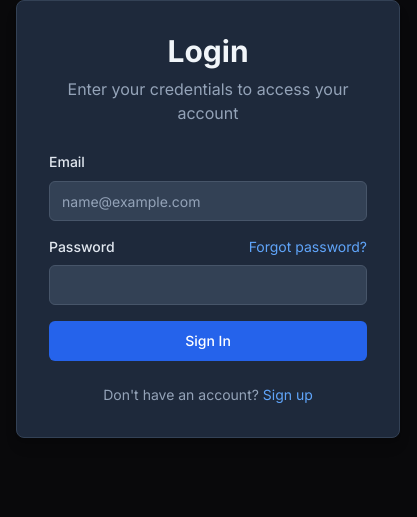
Test: LoginForm › shows error message on failed login
In the field labelled "Email": (208,201) [49,181,367,221], type "test@example.com"
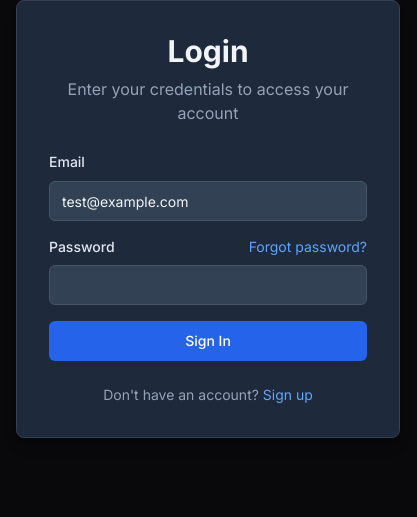
In the password field labelled "Password": (208,285) [49,265,367,305], type "wrongpassword"
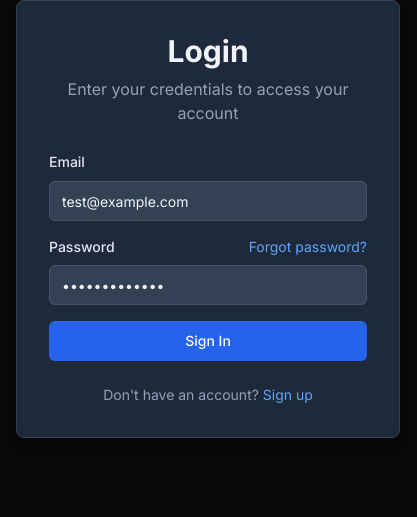
Click the button "Sign In": (208,341) [49,321,367,361]
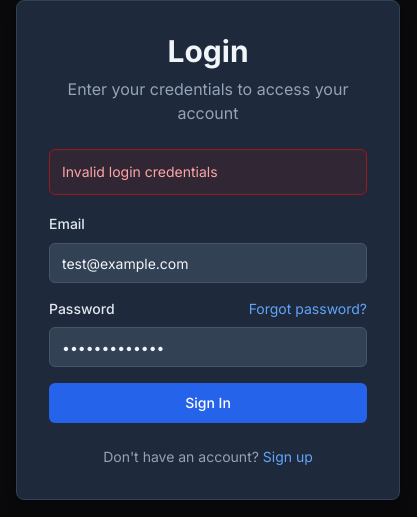
Now the text "Invalid login credentials" is shown, box [49,149,367,195]
